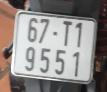1: (70, 50, 81, 77), (73, 19, 83, 48)
5: (54, 48, 66, 76), (39, 48, 51, 74)
6: (26, 17, 38, 43)
7: (38, 17, 50, 45)
9: (24, 45, 35, 72)
T: (61, 18, 72, 48)
